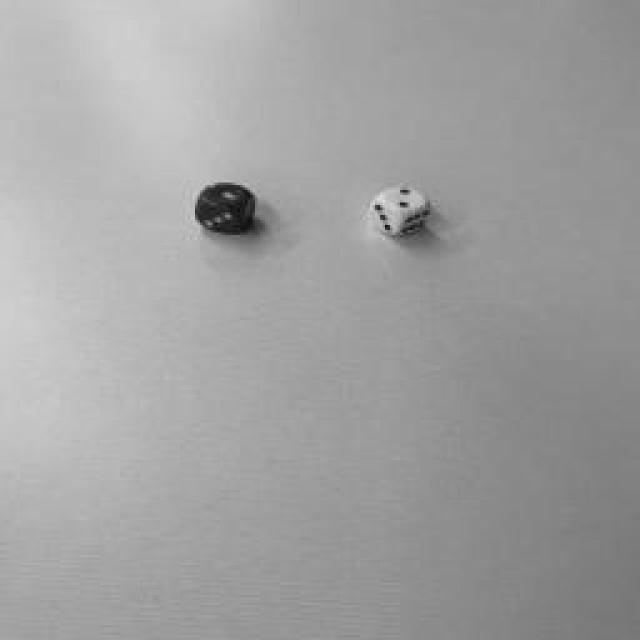dice_1: (202, 184, 252, 208)
dice_2: (381, 186, 429, 214)
